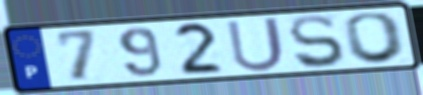2: (172, 20, 228, 78)
7: (54, 27, 100, 84)
9: (116, 26, 165, 79)
O: (342, 10, 410, 66)
S: (286, 13, 348, 70)
U: (223, 14, 288, 74)
